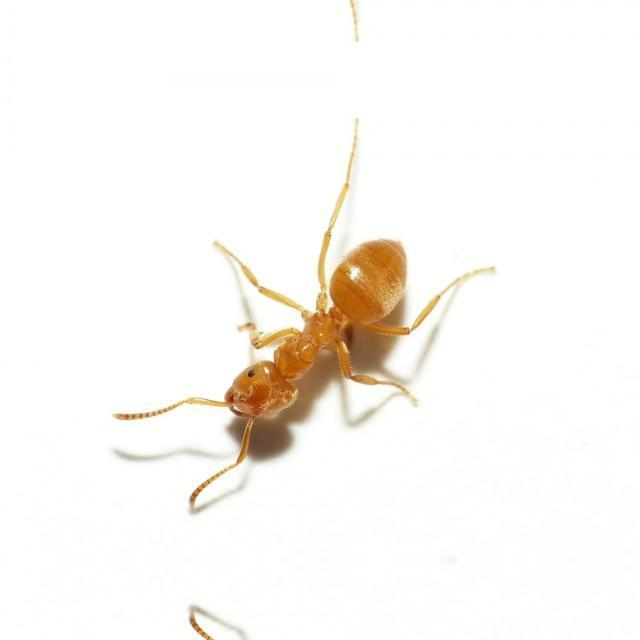Lasius: (138, 193, 452, 491)
